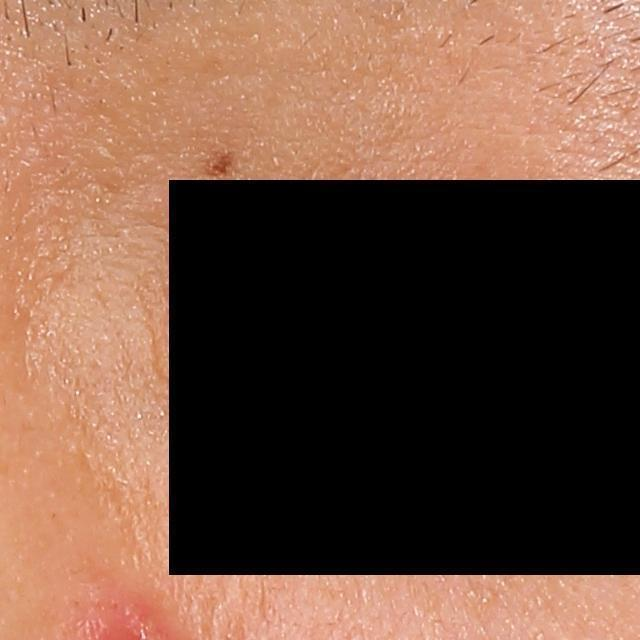nevus: (200, 145, 245, 181)
